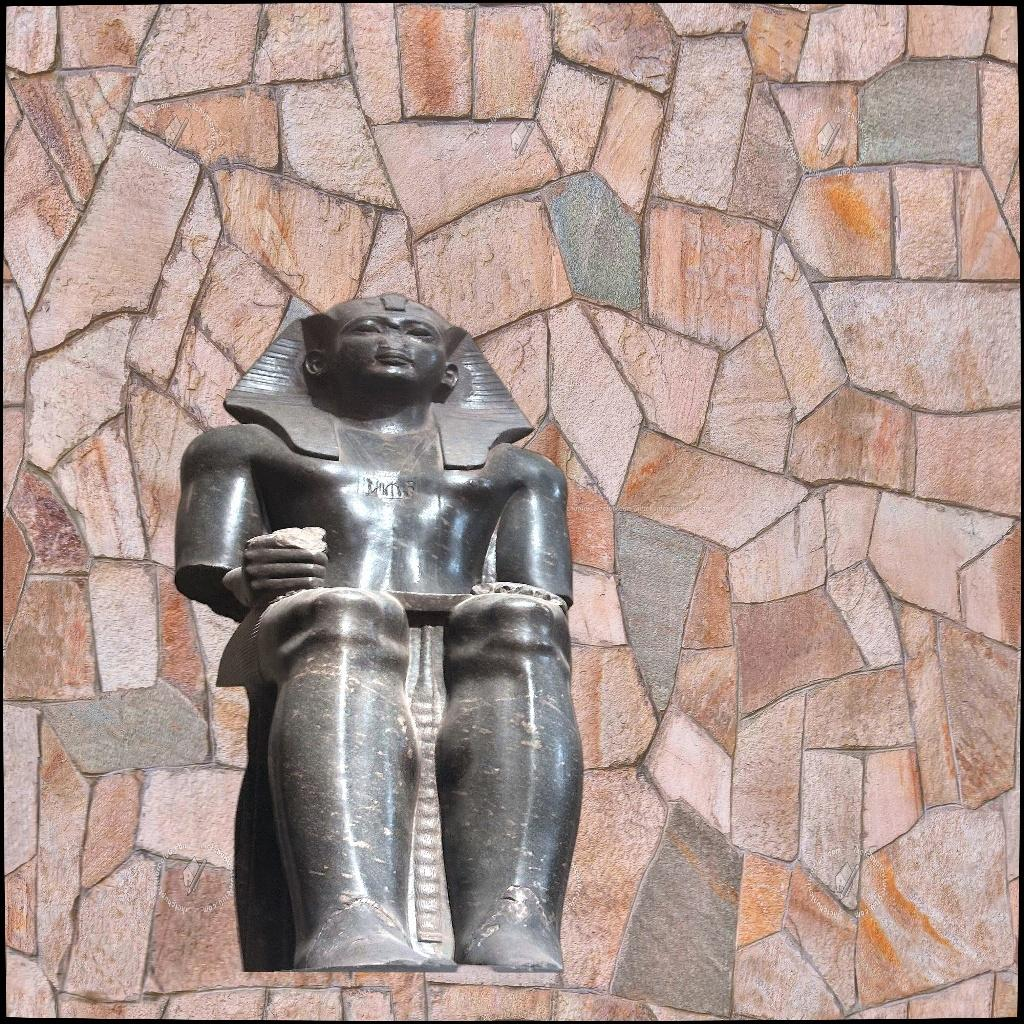Seated Statue of Ramesses II: (168, 288, 594, 972)
